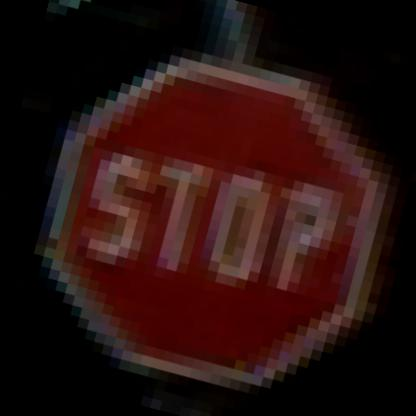stop: (6, 18, 415, 415)
